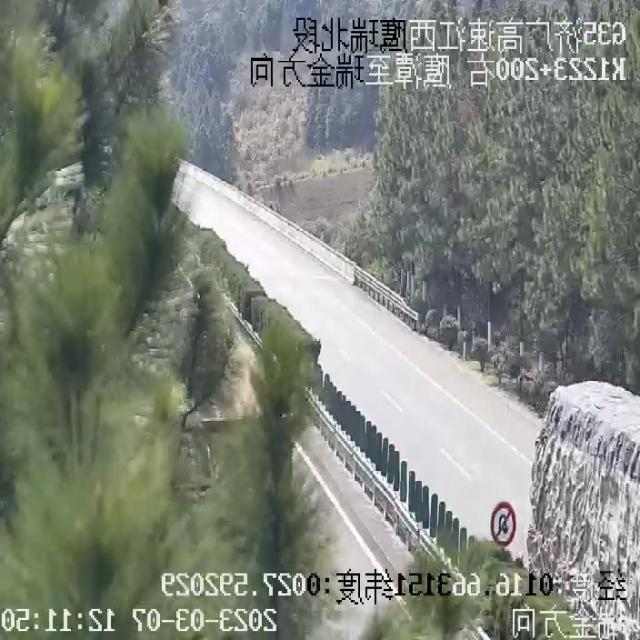cover: (145, 141, 199, 215), (263, 435, 319, 500), (206, 322, 247, 374)
